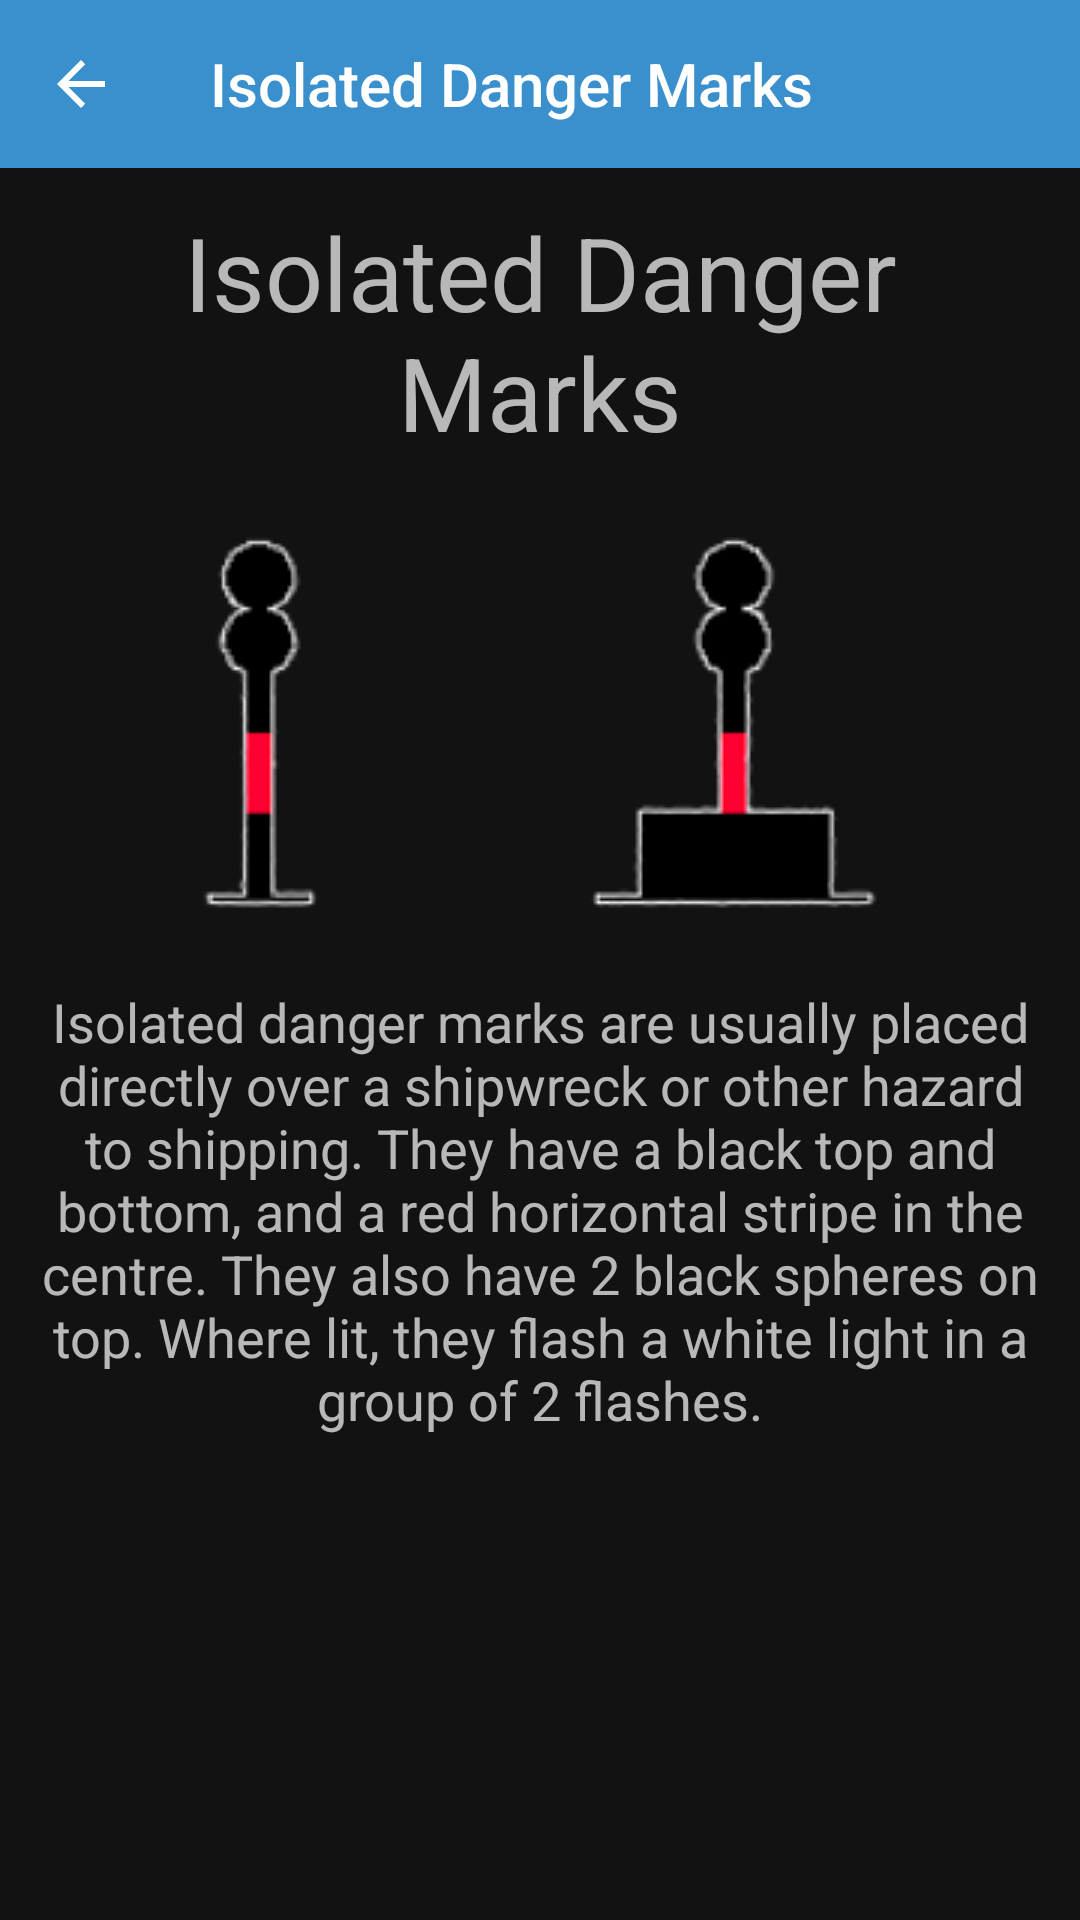

Screen size 1080x1920. Icon name, then its box in pixels as (x1, y1, x2, y2):
arrow back: (57, 60, 105, 108)
